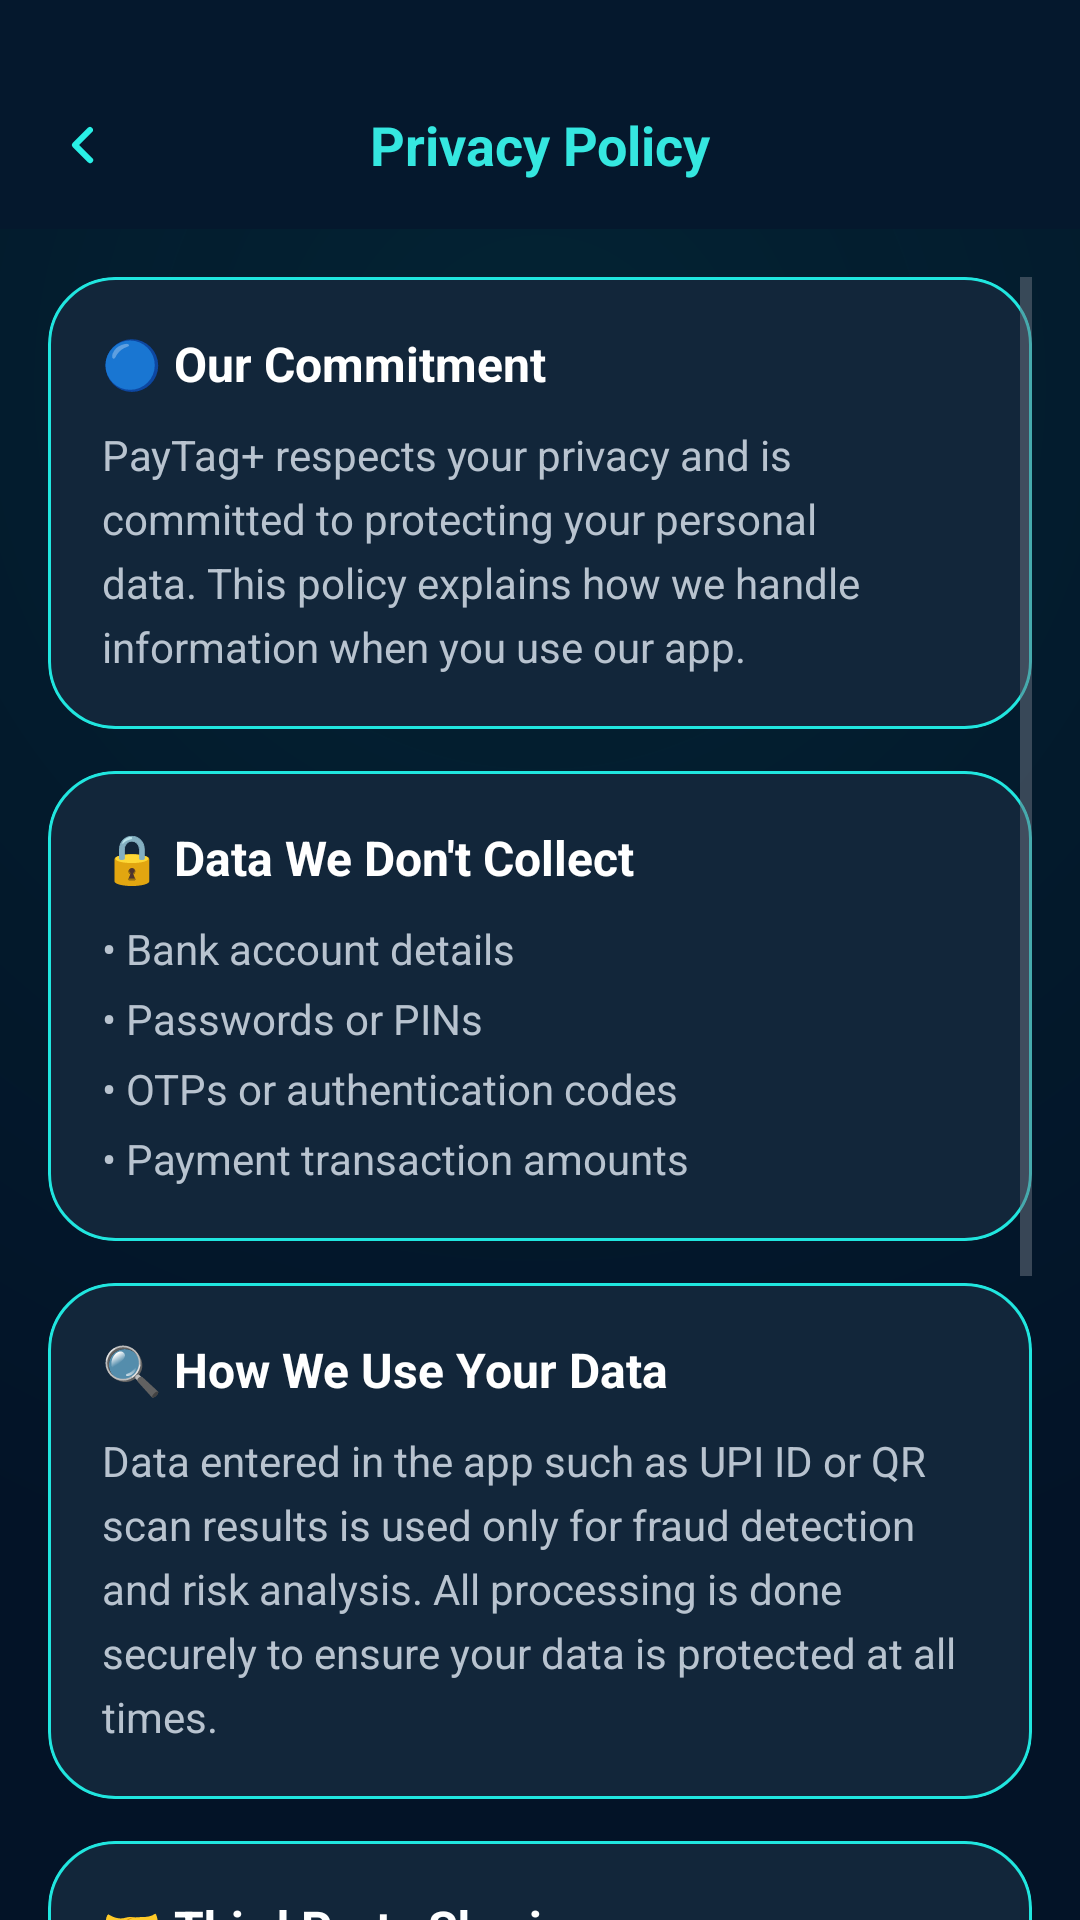

Named icons in this screenshot (1080w x 1920h) and their bounding boxes, (x1, y1, x2, y2):
arrow left: (72, 127, 94, 164)
